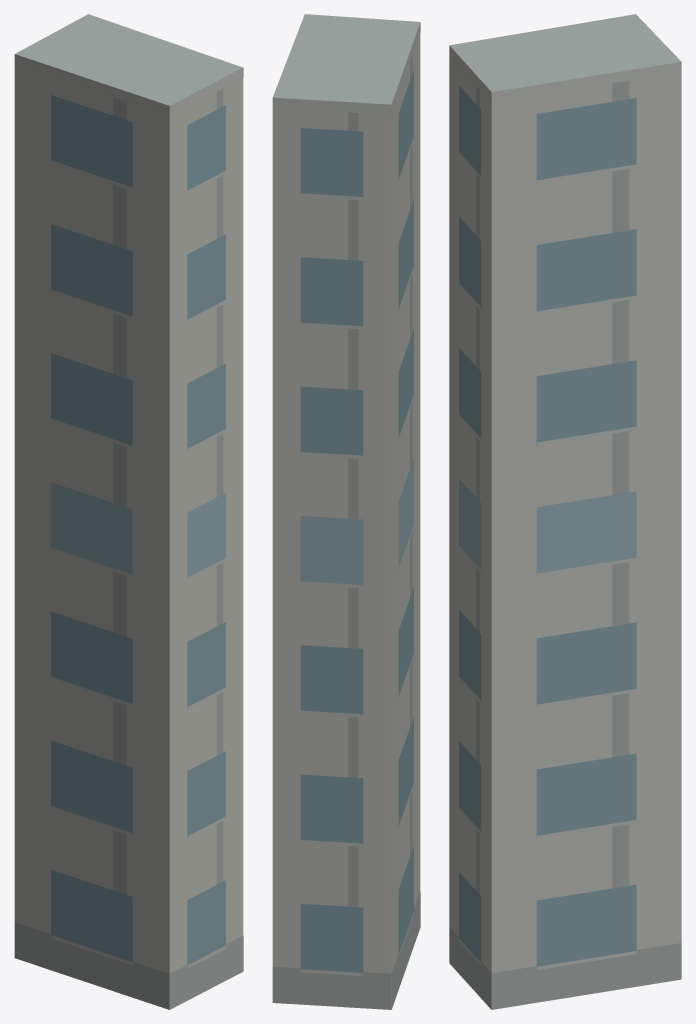
File: survey-upis-32837213.glb
3 renders of one model, left to right at view 1: azimuth 30°, elevation 25°; view 2: azimuth 150°, elevation 25°; view 3: azimuth 270°, elevation 25°, orthographic.
Parts seen in each view (by area): view 1: survey-upis-32837213.tmp; view 2: survey-upis-32837213.tmp; view 3: survey-upis-32837213.tmp.
Boxes of the visible parts, <box> form: survey-upis-32837213.tmp: <box>14,14,243,1009</box>; survey-upis-32837213.tmp: <box>272,14,420,1009</box>; survey-upis-32837213.tmp: <box>449,14,681,1009</box>.
Bounding box in the file's own units: 3.91 × 21.35 × 4.91.
